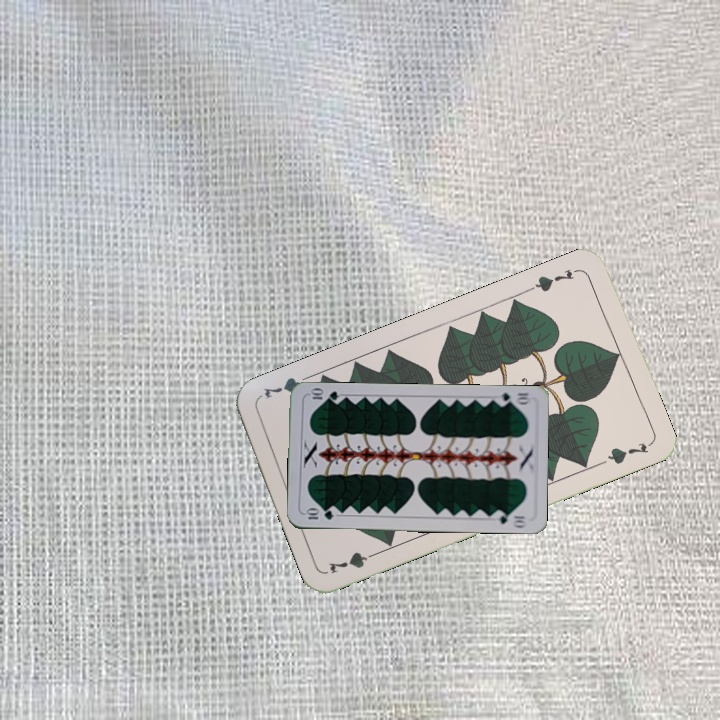G10: (492, 388, 532, 408), (302, 506, 336, 522)
G7: (525, 264, 583, 295), (324, 547, 383, 577)
